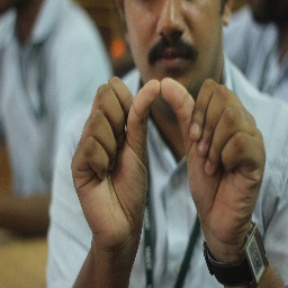A: (80, 73, 250, 218)
